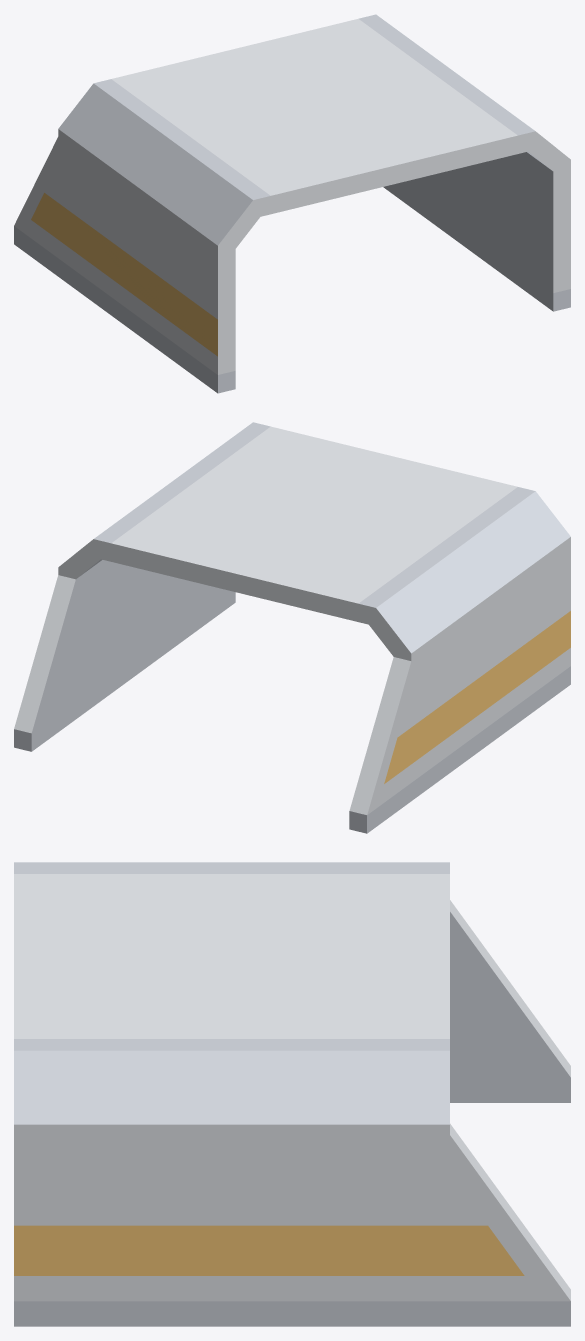
File: hangar_smallb.glb
3 renders of one model, top to bottom at view 1: azimuth 30°, elevation 25°; view 2: azimuth 150°, elevation 25°; view 3: azimuth 270°, elevation 25°, orthographic. The views are drawn at different scales.
Visible parts, largest first — view 1: hangar_smallB; view 2: hangar_smallB; view 3: hangar_smallB.
Part boxes in pixels (x1,y1,x2,y2): hangar_smallB: (14,14,570,393); hangar_smallB: (14,422,570,833); hangar_smallB: (14,862,570,1326).
Bounding box in the file's own units: 2.21 × 1.1 × 2.21.
